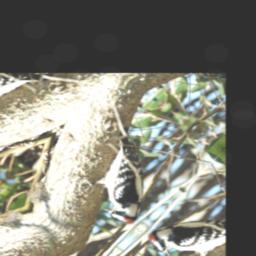Woodpecker: (69, 134, 183, 229)
